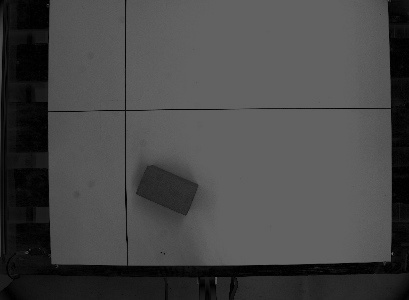b2: (132, 163, 200, 218)
